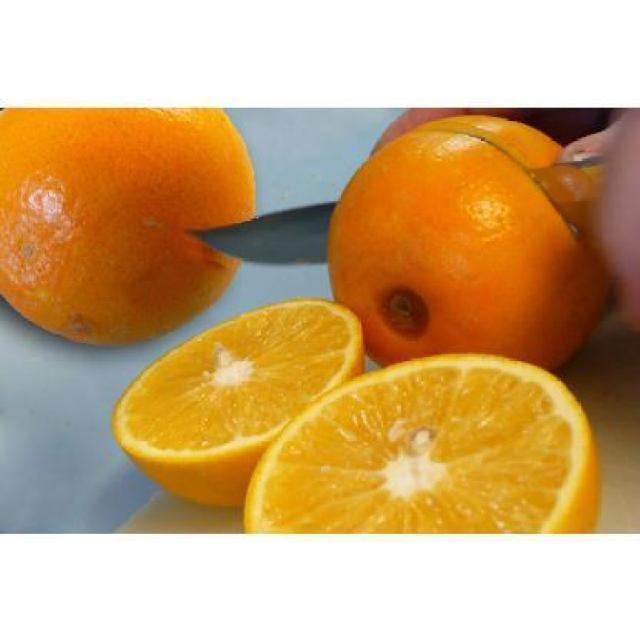Orange: (328, 116, 610, 376), (240, 348, 596, 526), (3, 106, 265, 346), (108, 294, 372, 502)
